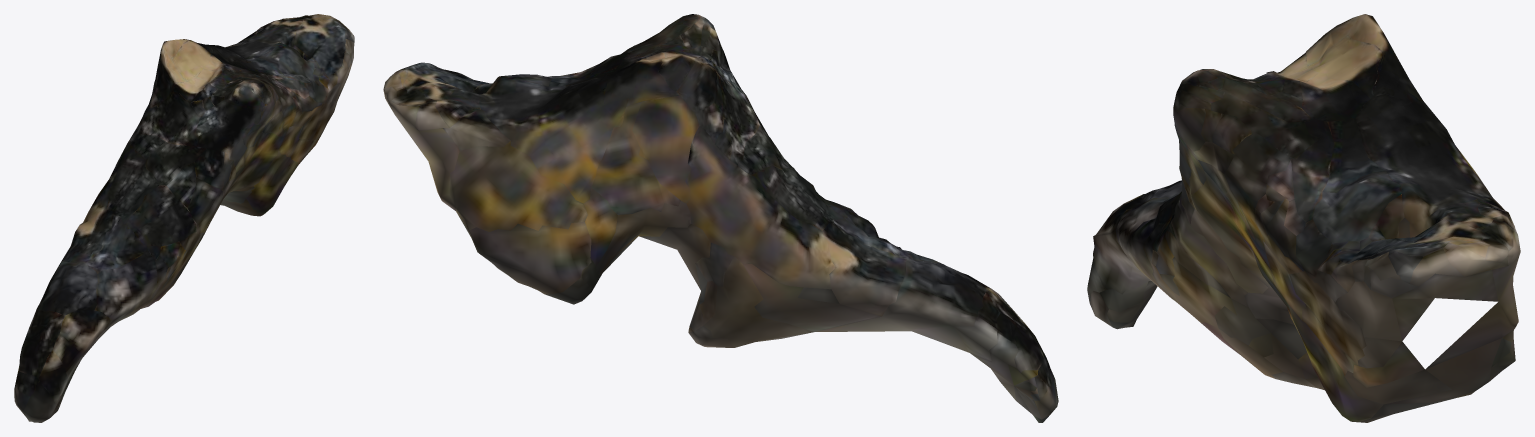
File: hall.glb
The picture shows the model from 3 angles, left to right: view 1: azimuth 30°, elevation 25°; view 2: azimuth 150°, elevation 25°; view 3: azimuth 270°, elevation 25°; orthographic projection. The views are drawn at different scales.
Bounding box in the file's own units: 1.31 × 0.8415 × 0.6864.
Materials: 1 (1 with a texture image).
